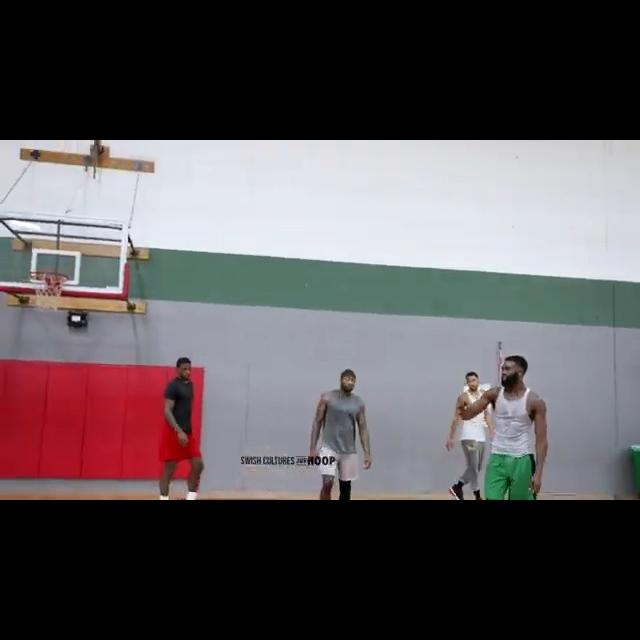hoop: (26, 270, 69, 312)
